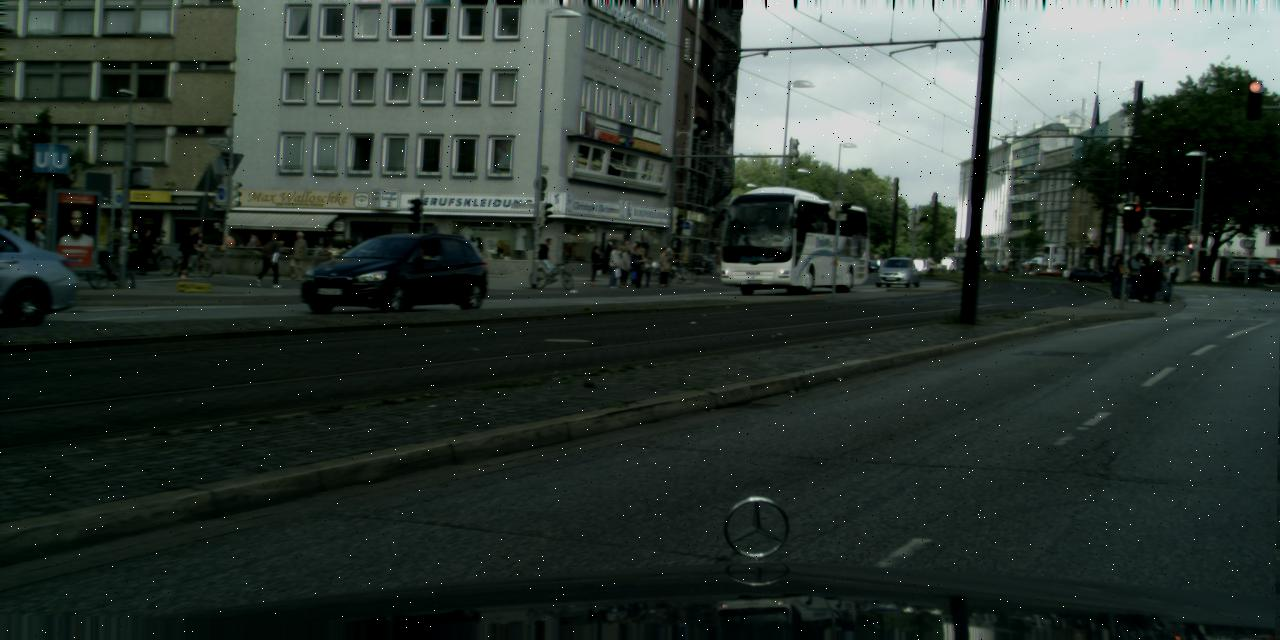ped: (22, 218, 46, 276), (260, 232, 282, 287), (1126, 252, 1147, 302), (288, 231, 308, 280), (1110, 250, 1129, 297), (1146, 254, 1165, 301), (1154, 258, 1172, 303), (1160, 258, 1178, 302), (1112, 255, 1130, 299), (539, 236, 557, 280), (606, 243, 623, 288), (616, 245, 633, 288), (1136, 256, 1153, 299), (178, 228, 195, 270), (136, 229, 152, 270), (654, 246, 670, 286), (185, 226, 201, 266), (586, 245, 602, 284), (658, 247, 674, 285), (632, 249, 647, 288), (154, 230, 170, 266), (127, 224, 142, 262), (246, 231, 261, 267), (630, 247, 644, 282), (625, 242, 639, 276), (619, 240, 632, 274), (642, 256, 654, 286)
